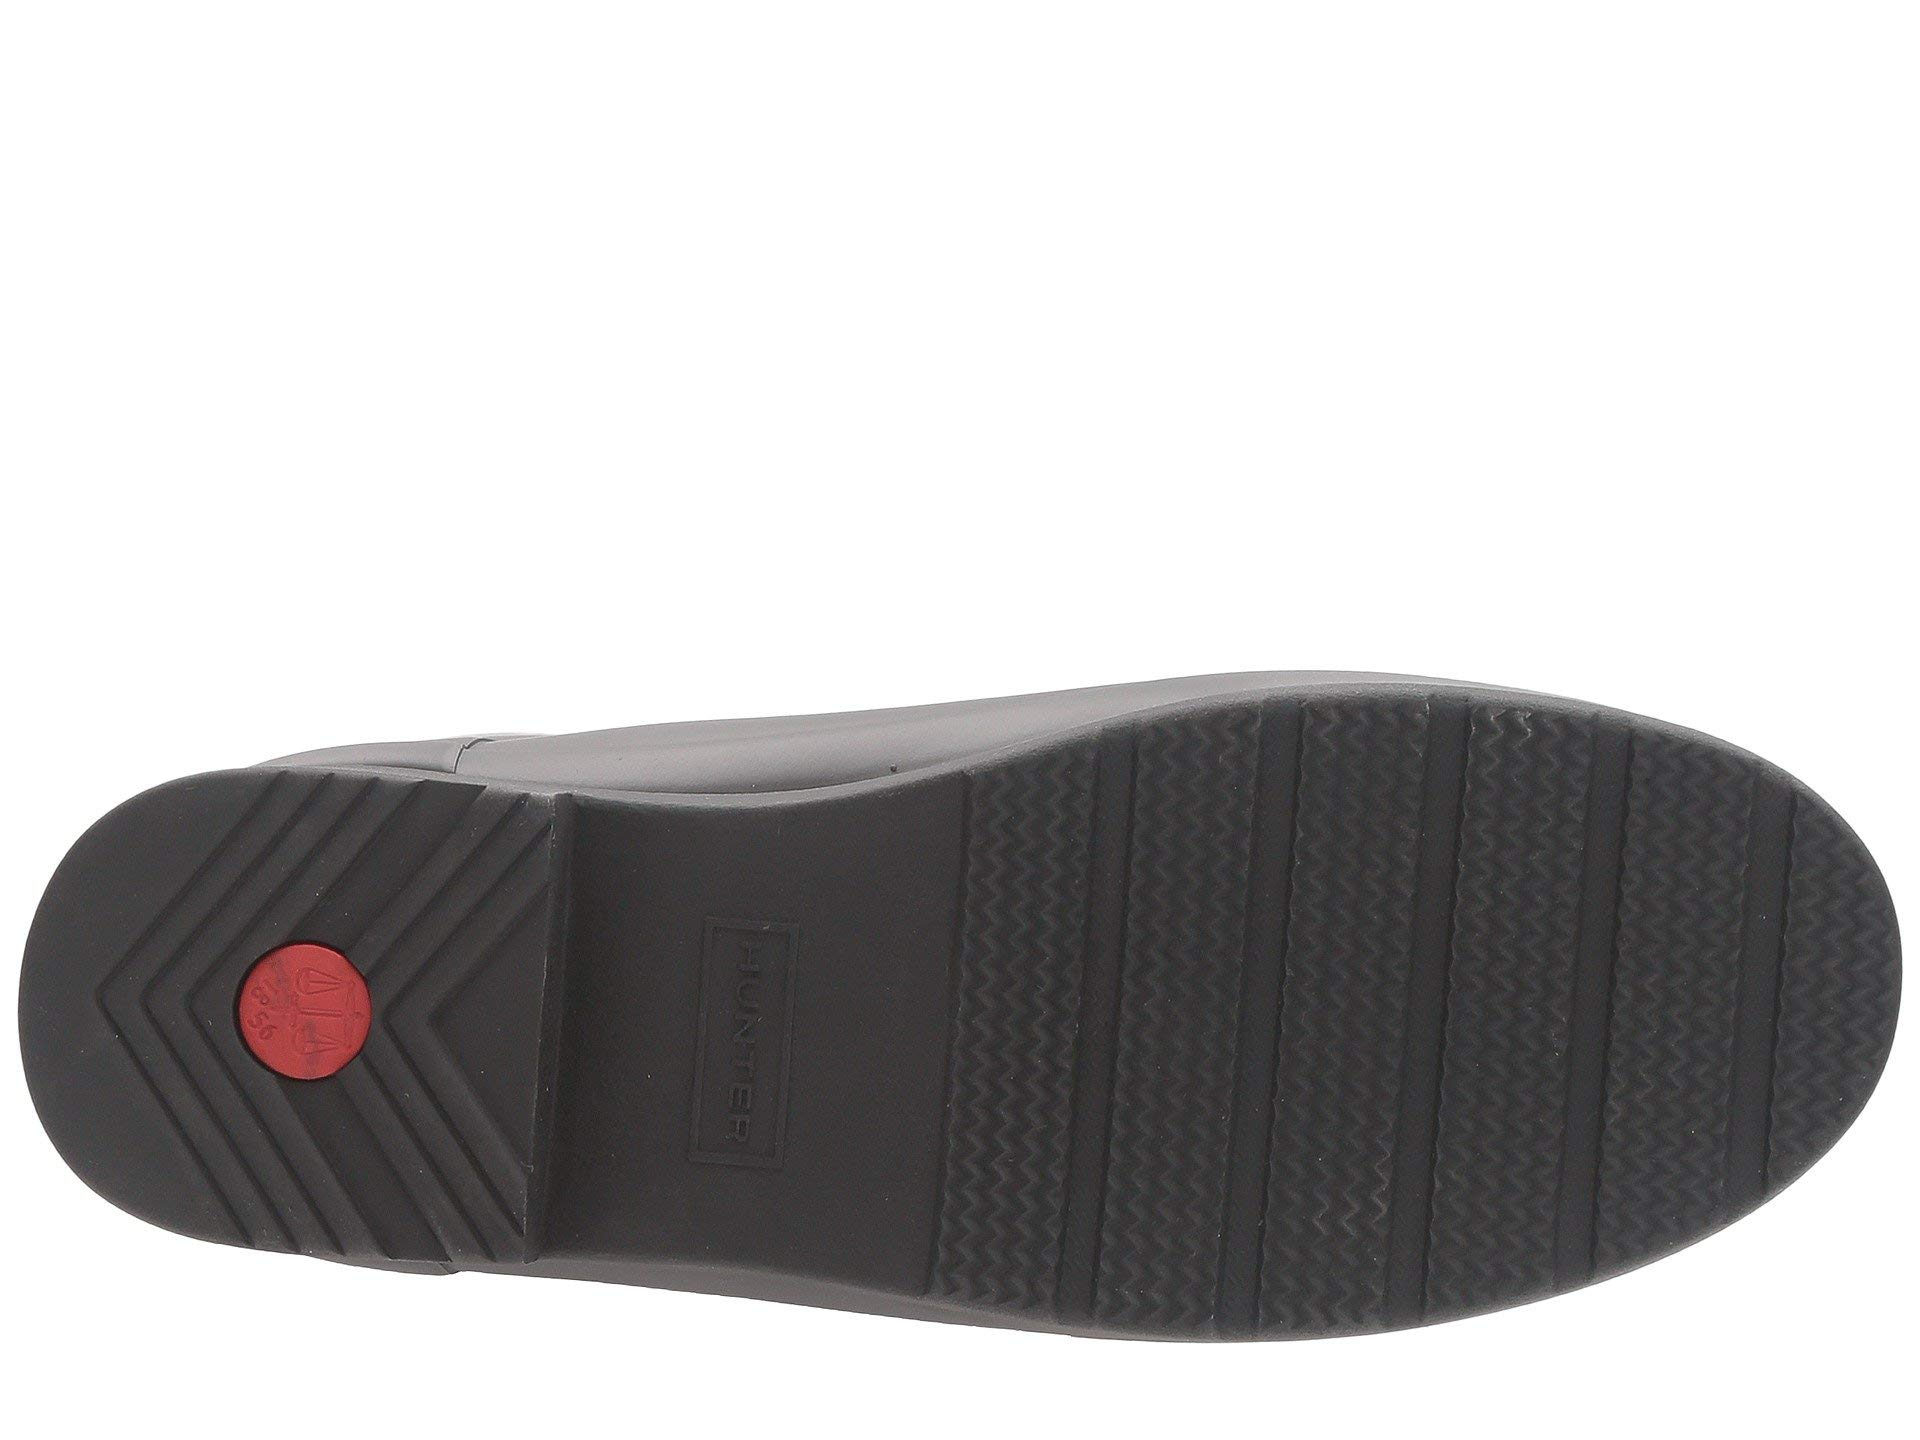chevron: (1039, 850, 1469, 1237), (159, 874, 494, 1162)
circle: (159, 874, 494, 1162)
line: (1039, 850, 1469, 1237)
quad: (599, 892, 897, 1218)
text: (599, 892, 897, 1218)
